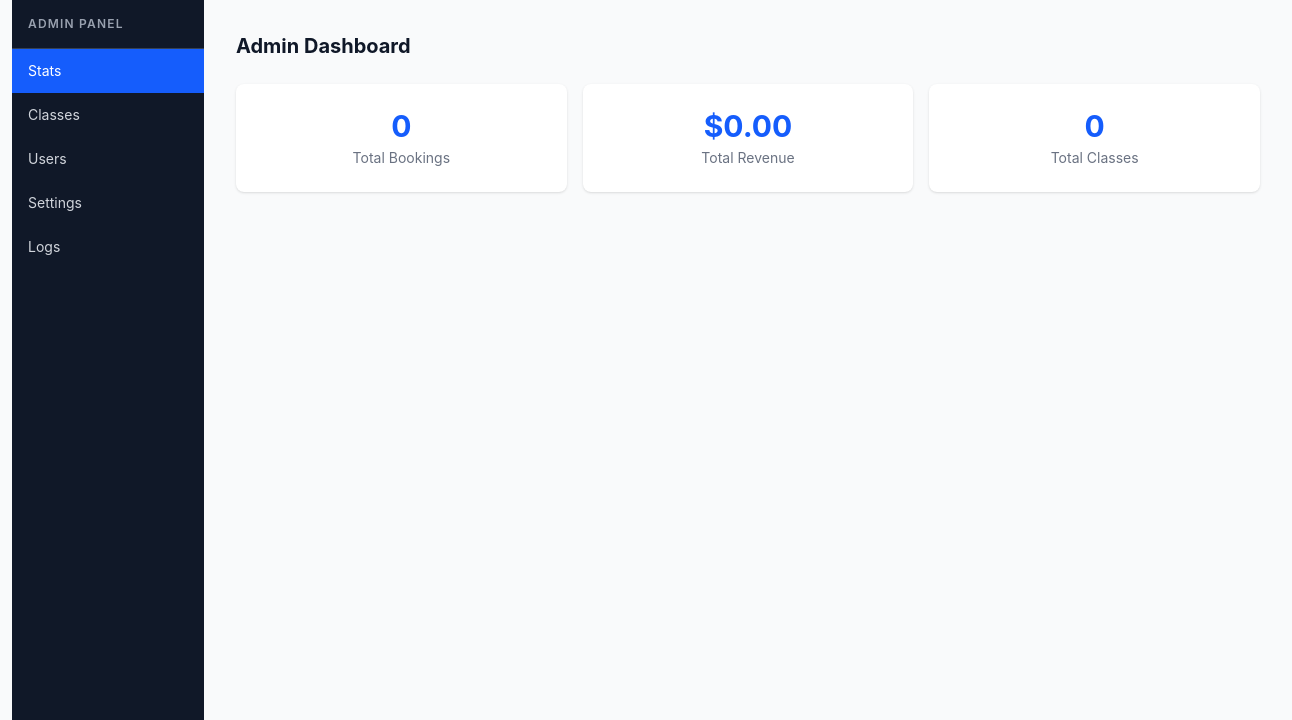
Test case: Admin Logs tab › shows all logs by default
Step 1. Click the button "Logs" → (108, 247), box x1=12 y1=225 x2=204 y2=269
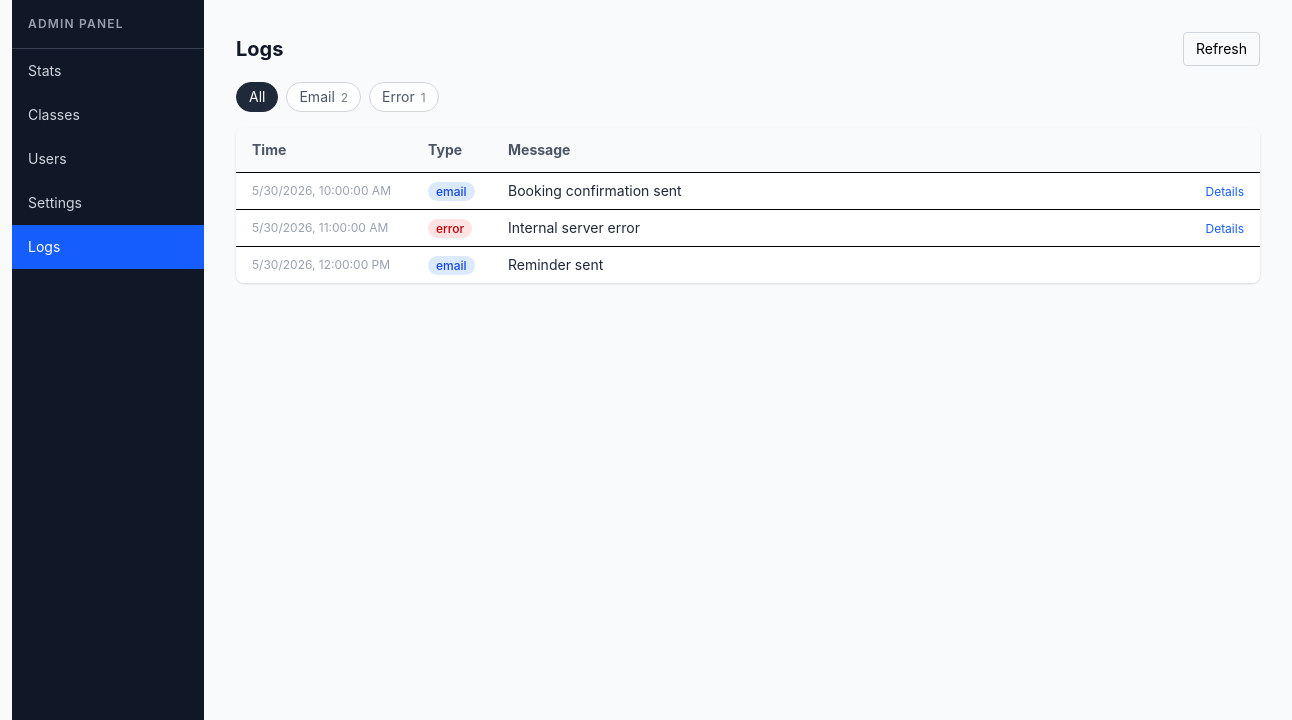
Now the text "Booking confirmation sent" is shown, box x1=492 y1=172 x2=1180 y2=210
Now the text "Internal server error" is shown, box x1=492 y1=210 x2=1180 y2=246
Now the text "Reminder sent" is shown, box x1=492 y1=246 x2=1180 y2=283
